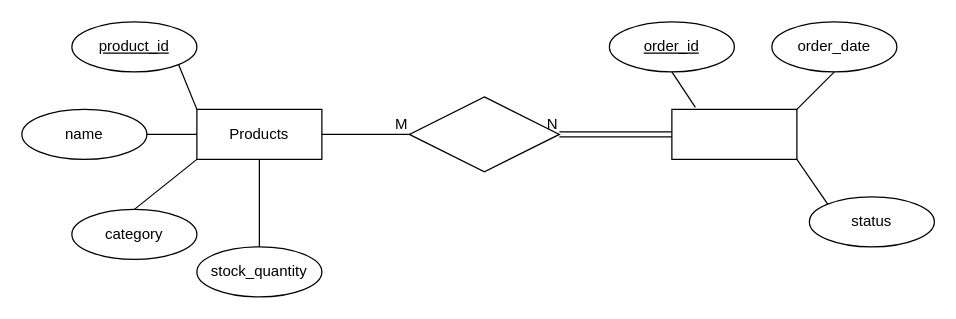
Some shapes in this 956 by 319 pixel diagram are drawn without their labels. Here are the shapes that lost their labels. From the top down, the centre of each, then its label:
At point (483, 134): "contains".
At point (734, 133): "Orders".
